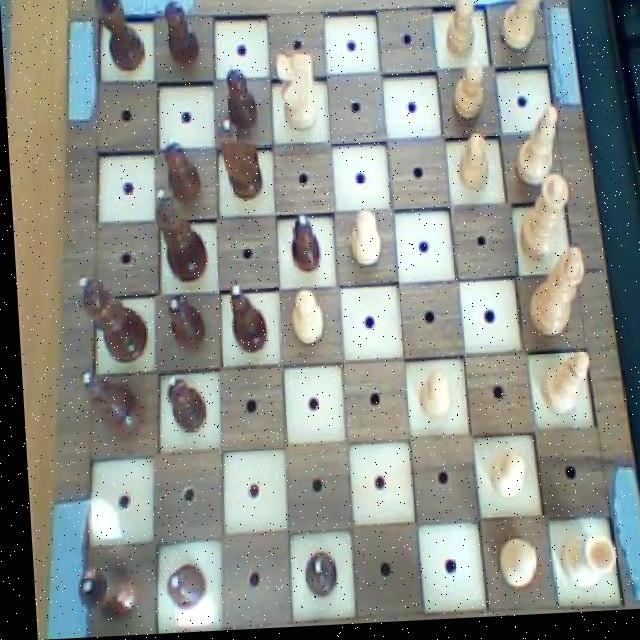bishop: (71, 363, 142, 445), (221, 282, 266, 360)
black-bishop: (70, 271, 147, 370)
black-king: (212, 114, 267, 208)
black-knight: (157, 130, 204, 208), (217, 58, 261, 138), (157, 0, 204, 72), (158, 291, 205, 357), (159, 371, 203, 440), (283, 212, 321, 281), (154, 559, 201, 614), (294, 547, 335, 604)
black-pawn: (148, 187, 206, 285)
black-queen: (63, 552, 136, 627), (91, 0, 150, 79)
black-rook: (509, 103, 567, 197), (531, 352, 592, 426)
white-bishop: (520, 247, 590, 346)
white-king: (271, 53, 321, 138)
white-knight: (444, 64, 489, 131), (438, 0, 482, 67), (480, 449, 525, 514), (452, 134, 493, 203), (488, 538, 534, 599), (282, 288, 323, 356), (341, 209, 383, 275), (409, 370, 452, 432)
white-pawn: (511, 176, 573, 271)
white-queen: (547, 530, 614, 600), (492, 0, 554, 62)
